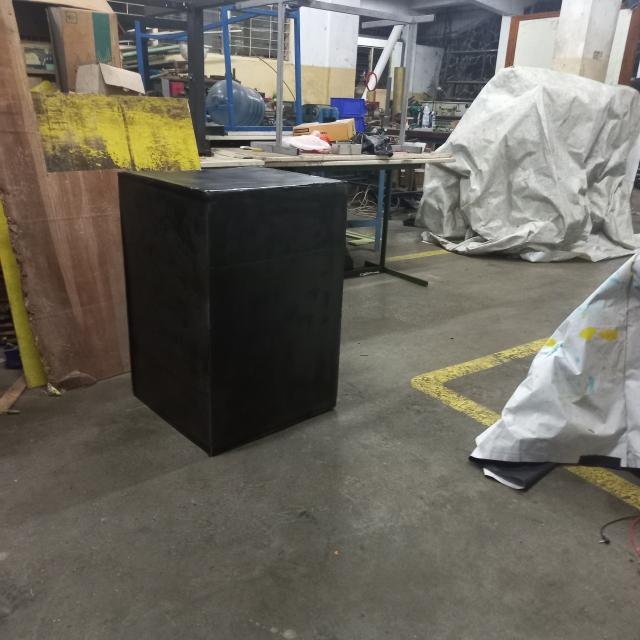obstacle: (116, 164, 352, 461)
